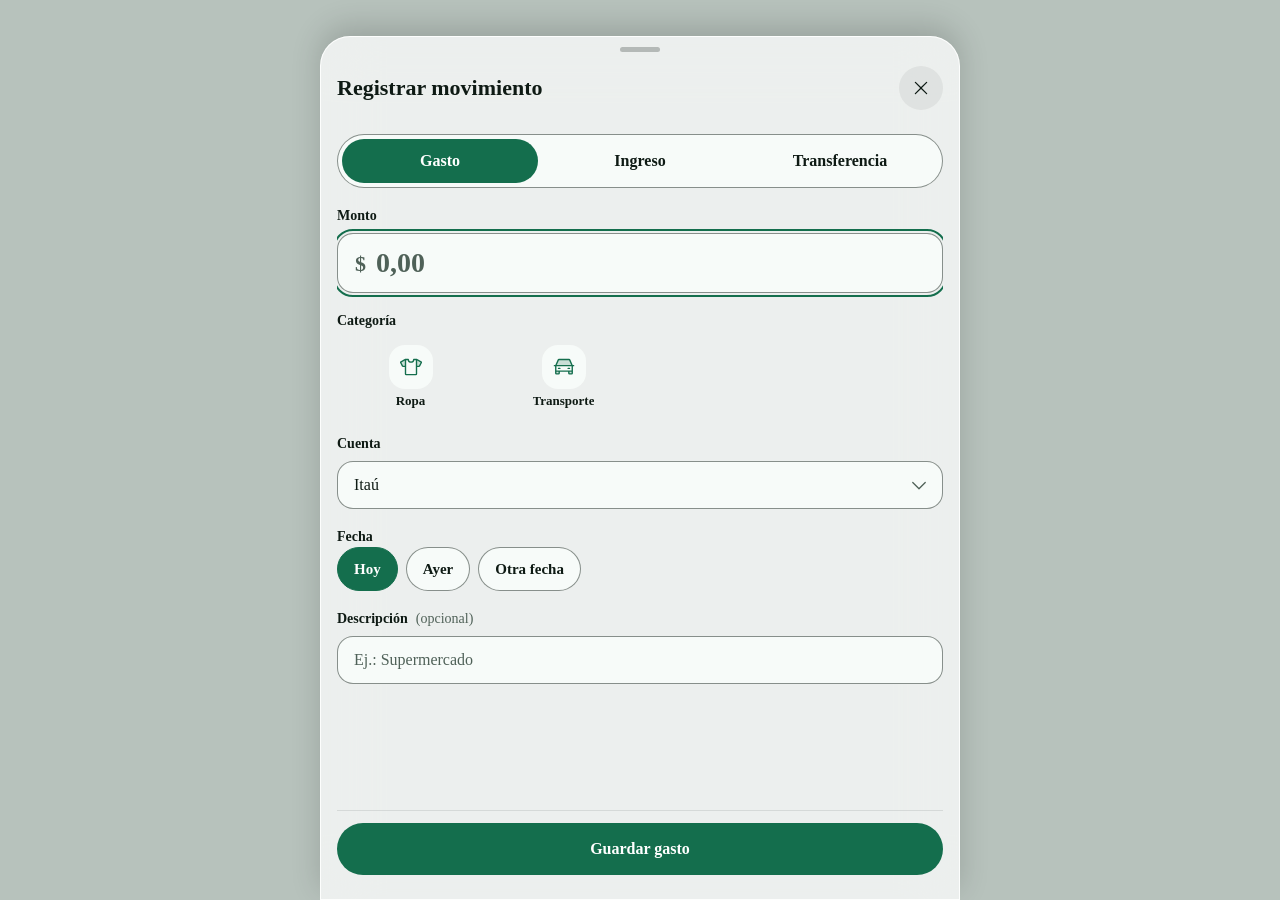
closing and the second step › titles the second step with the principal and gives a 'Volver' that returns to the form
expect the field labelled "Monto" is shown: met, box [337,233,943,293]
Step 1. Click the button "Transporte" → [564, 377], box [490,339,637,416]
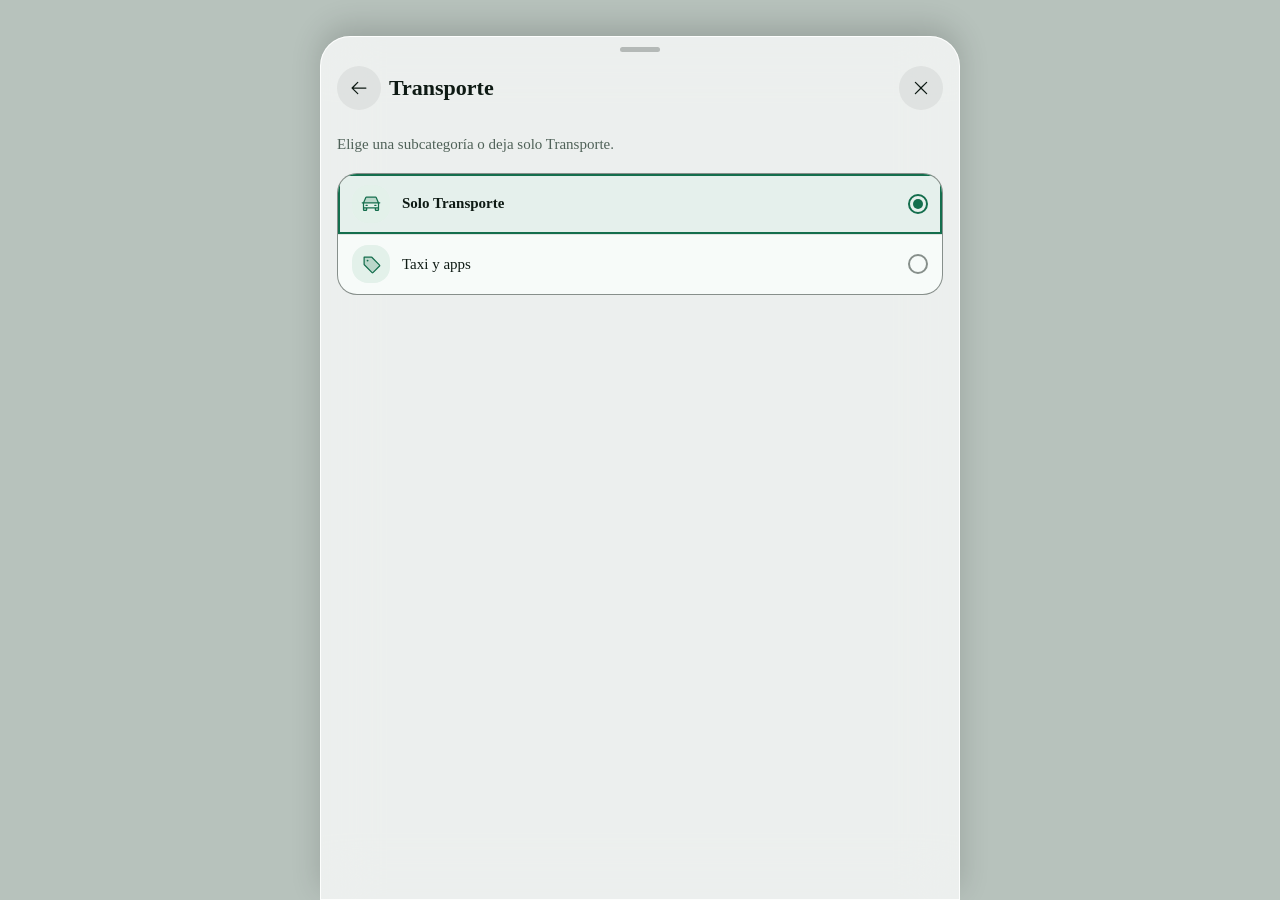
expect the dialog "Transporte" is shown: met, box [320,36,960,899]
Step 2. Click the button named "Volver" → [359, 88], box [337,66,381,110]
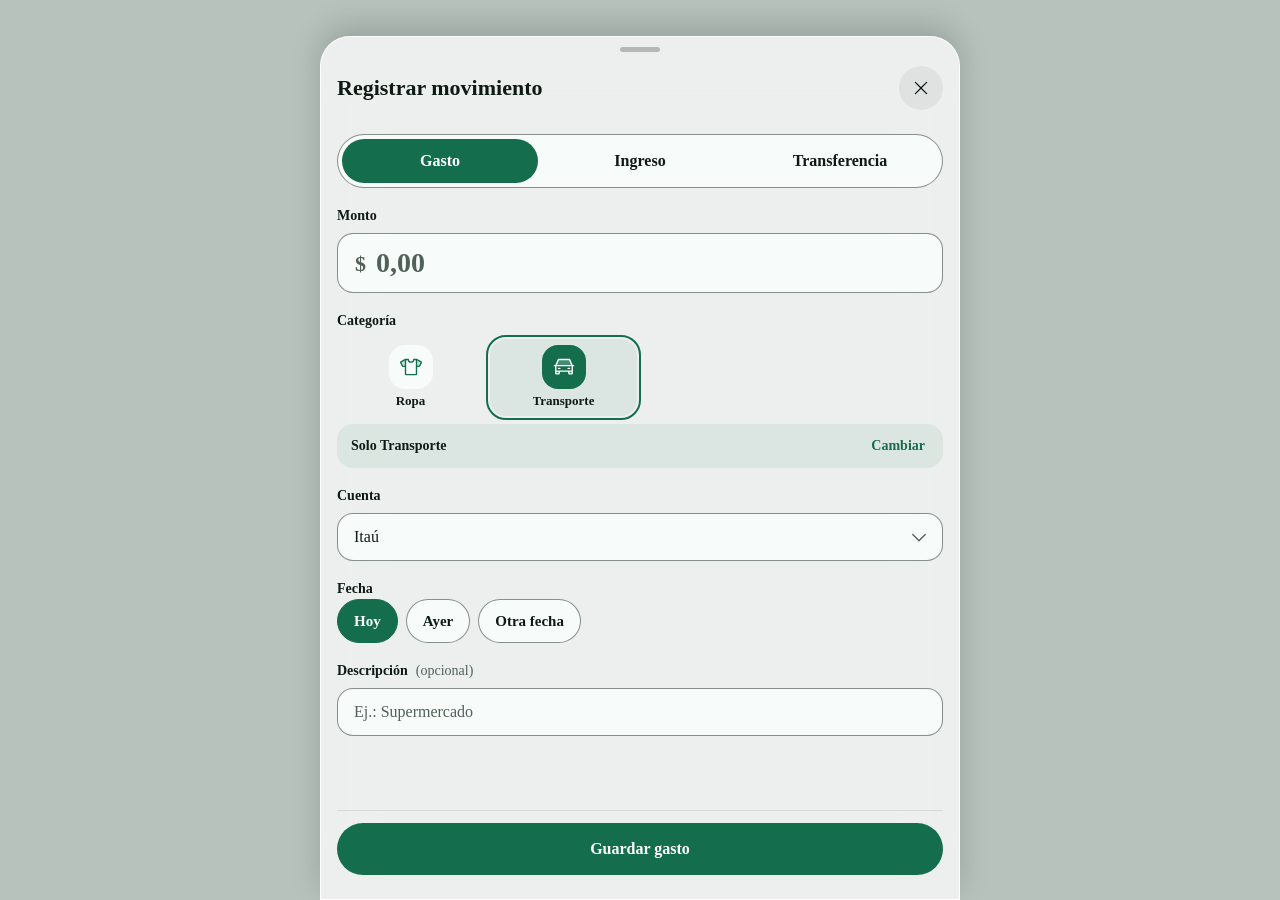
expect the text "Solo Transporte" is shown: met, box [351,436,446,456]
expect the dialog "Registrar movimiento" is shown: met, box [320,36,960,899]
expect the button "Volver" is gone: met
